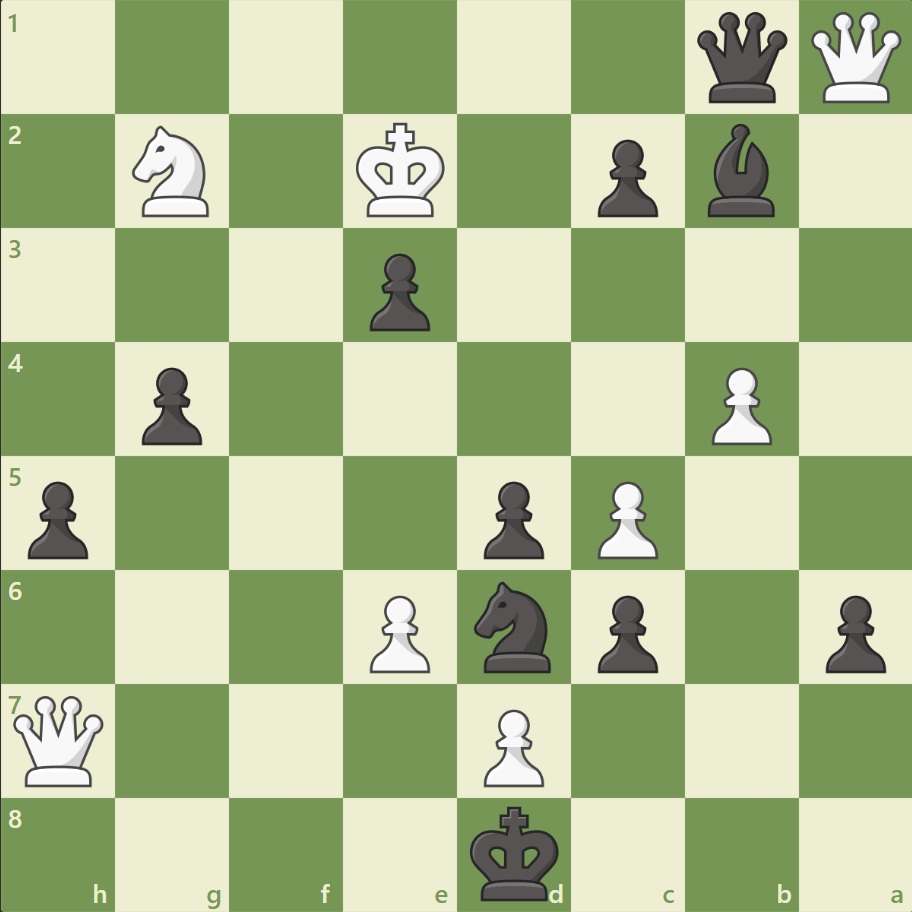K: (351, 117, 451, 225)
N: (124, 121, 222, 223)
P: (474, 700, 549, 791), (701, 359, 776, 450), (361, 586, 435, 677), (588, 473, 662, 564)
Q: (10, 690, 109, 789), (805, 9, 904, 108)
b: (698, 120, 782, 222)
k: (465, 798, 565, 906)
n: (465, 575, 562, 677)
p: (474, 473, 549, 564), (20, 473, 95, 564), (133, 359, 208, 450), (815, 586, 889, 677), (588, 586, 662, 677), (361, 246, 435, 337), (588, 132, 662, 223)
q: (691, 9, 790, 108)
